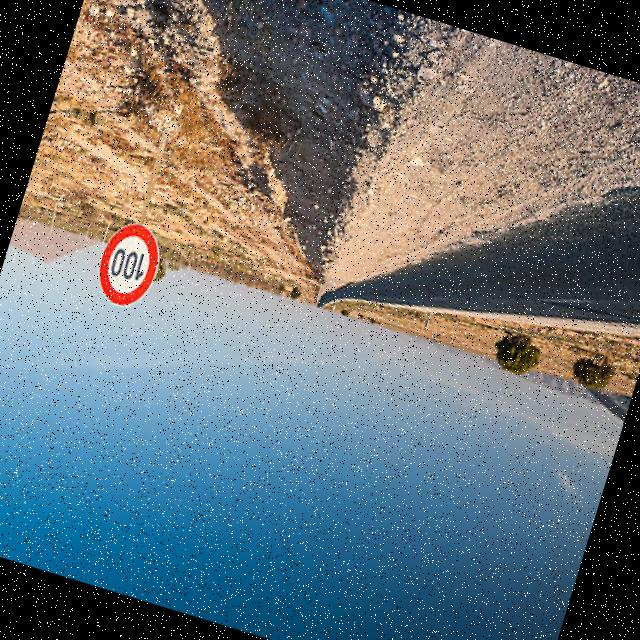speed_limit_100: (80, 212, 174, 322)
